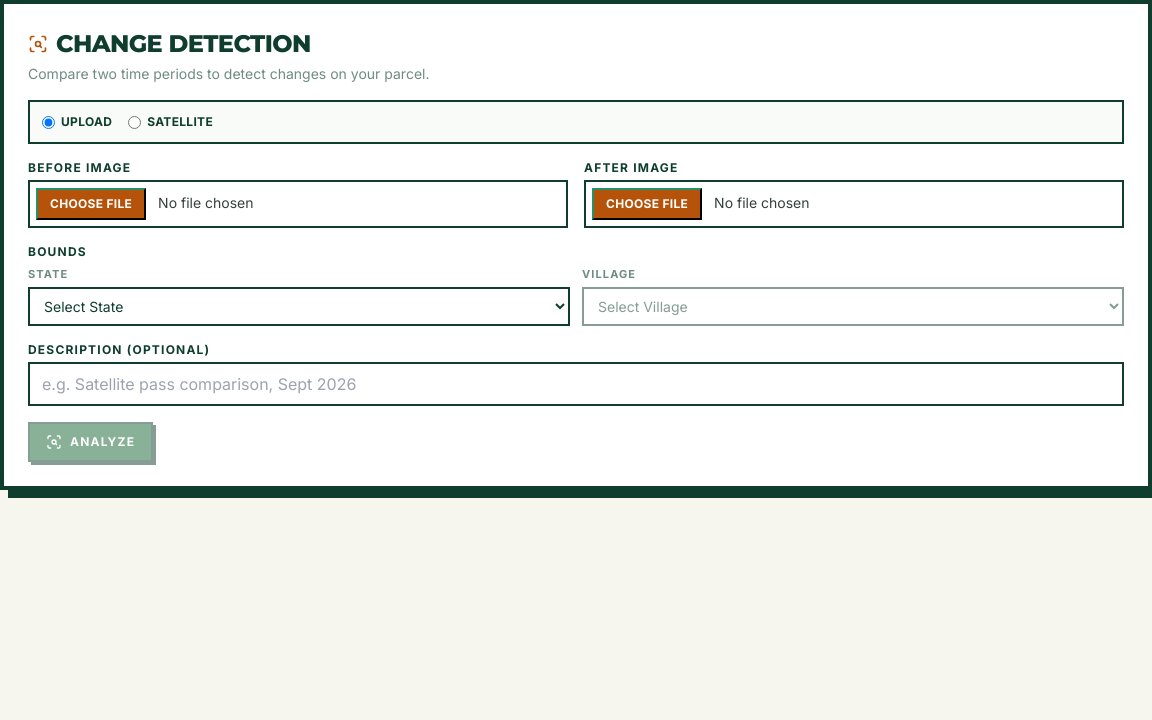
Test: ChangeDetectionPanel › selecting a state and cluster shows the bounds
Select "Maharashtra" in the dropdown labelled "State" at (299, 306), box top-left (28, 286), bottom-right (570, 326)
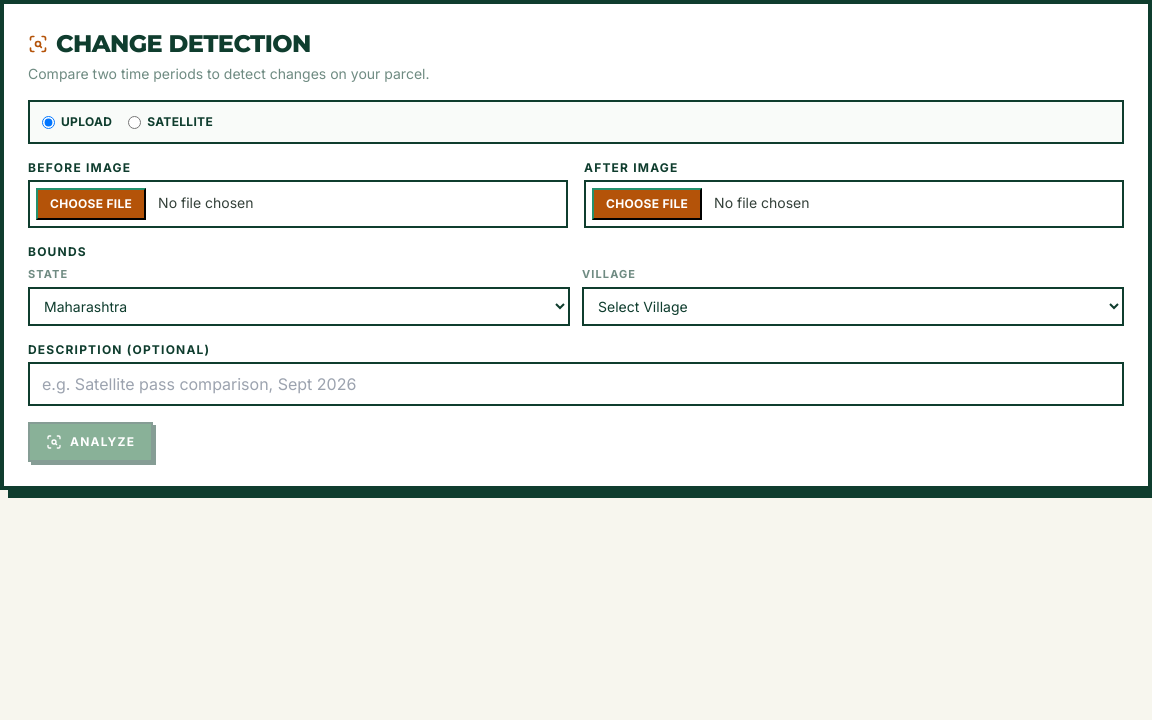
Select "Pune (City)" in the dropdown labelled "Village" at (853, 306), box top-left (582, 286), bottom-right (1124, 326)
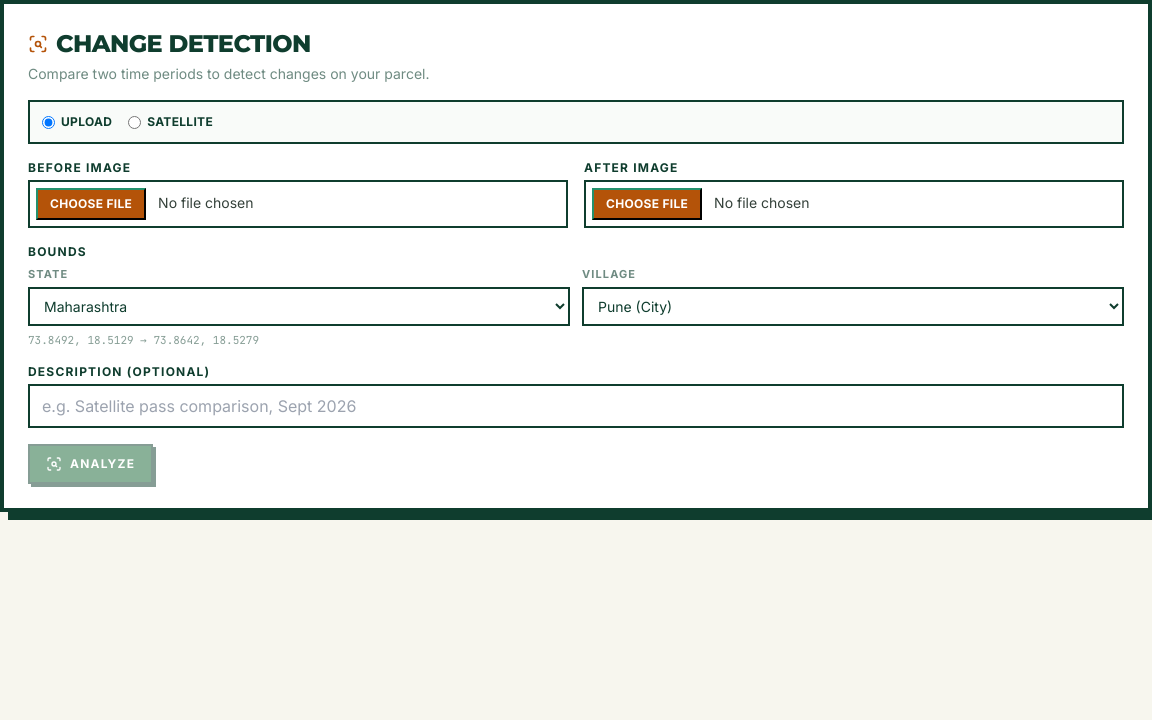
Expected: the text "73.8492, 18.5129 → 73.8642, 18.5279" is shown, top-left (28, 332), bottom-right (259, 346)
